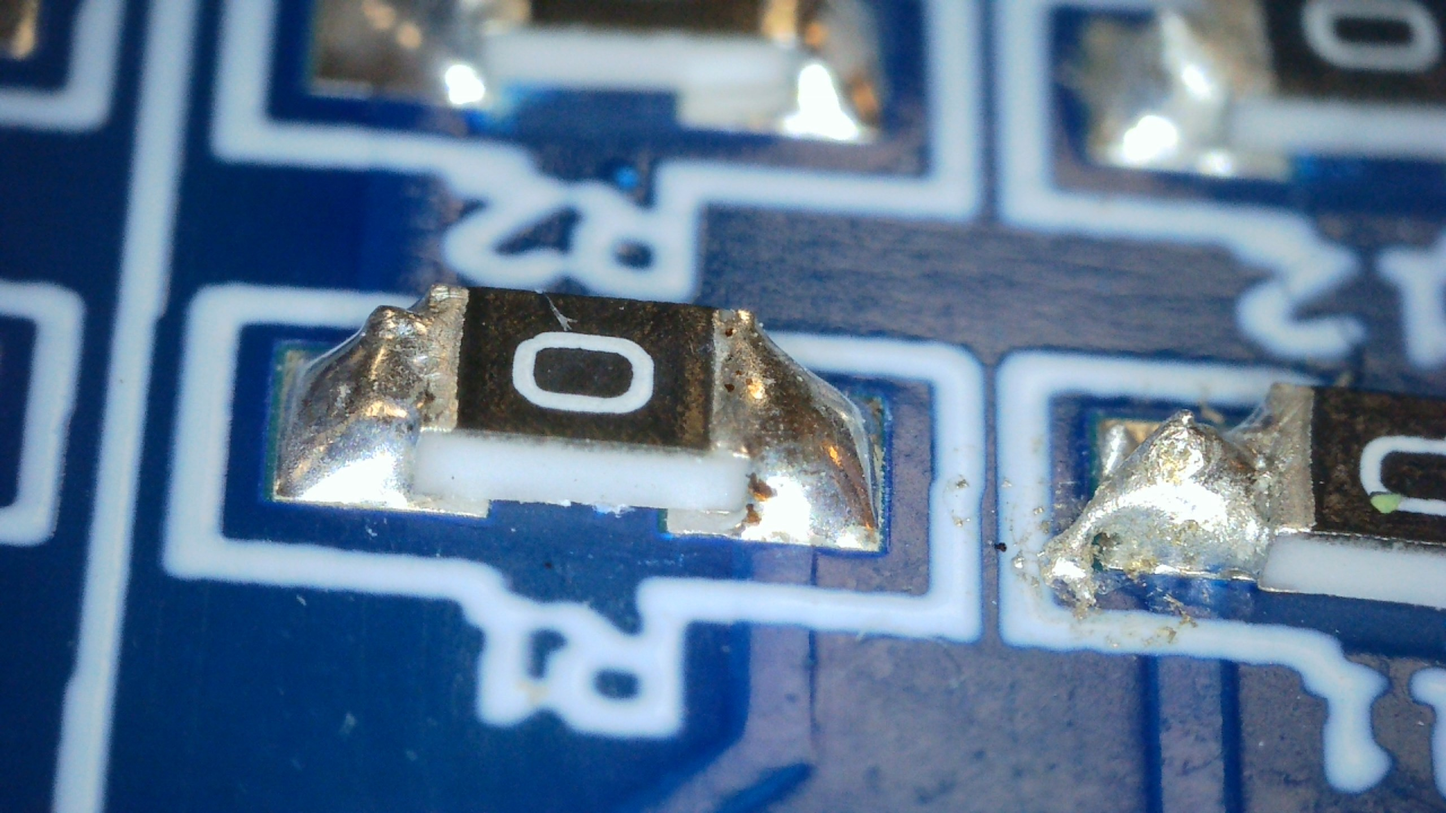NG: (278, 286, 464, 496), (712, 311, 872, 545), (364, 309, 429, 382)
